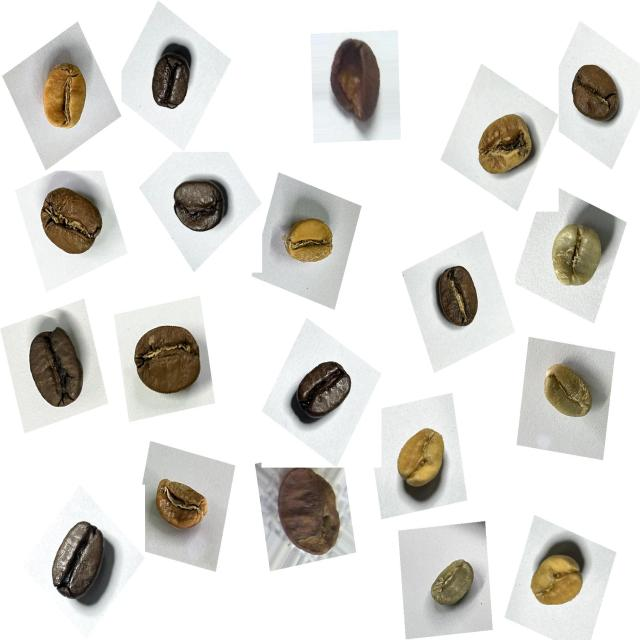bad: (268, 459, 349, 566), (317, 30, 393, 134)
dark: (39, 513, 119, 614), (285, 350, 358, 434), (138, 34, 204, 122), (166, 167, 237, 247)
green: (537, 210, 612, 305), (534, 354, 604, 434), (422, 551, 484, 623)
light: (523, 533, 598, 625), (466, 103, 541, 191), (388, 416, 457, 504), (30, 51, 98, 140), (148, 468, 220, 545), (276, 205, 342, 279)
medium: (122, 310, 211, 410), (14, 318, 98, 422), (31, 175, 114, 269), (427, 255, 492, 338), (564, 55, 630, 134)
